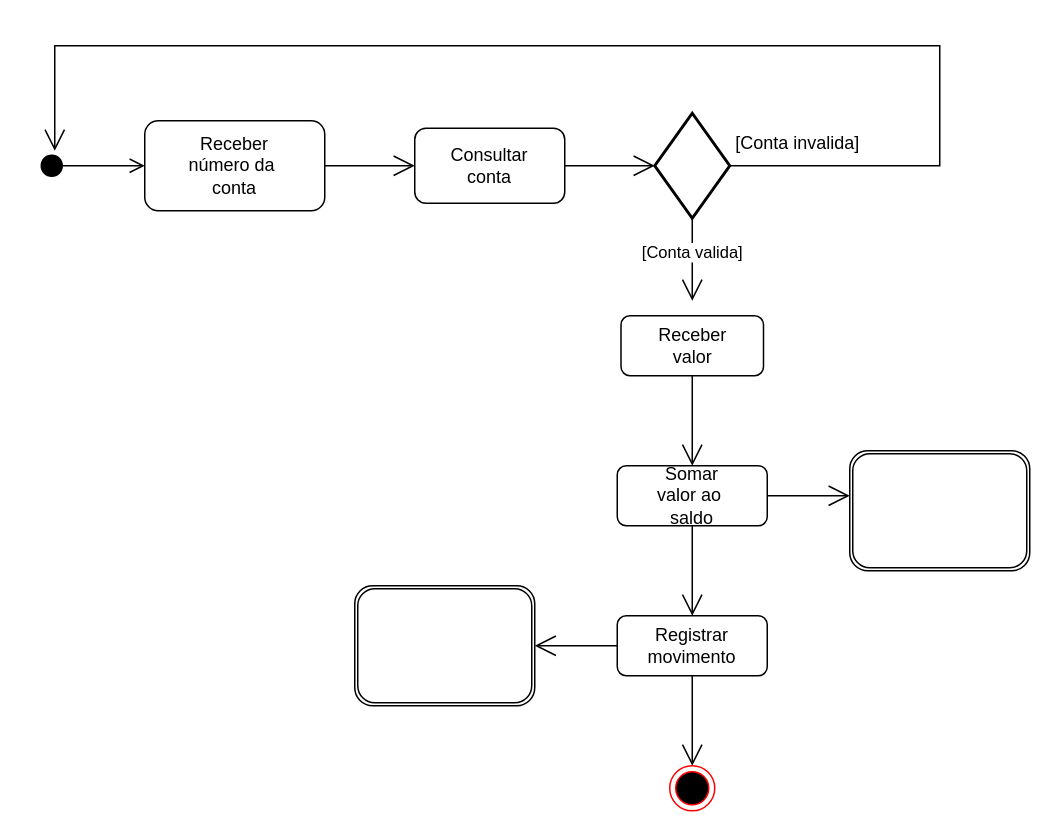
Image size: 1056x837. Some labels were removed from this diagram. Here are the shapes that lost their labels. From the top down, the centre of each, then its label:
At [939,510]: ":ContaComum".
At [444,645]: ":Movimento".
